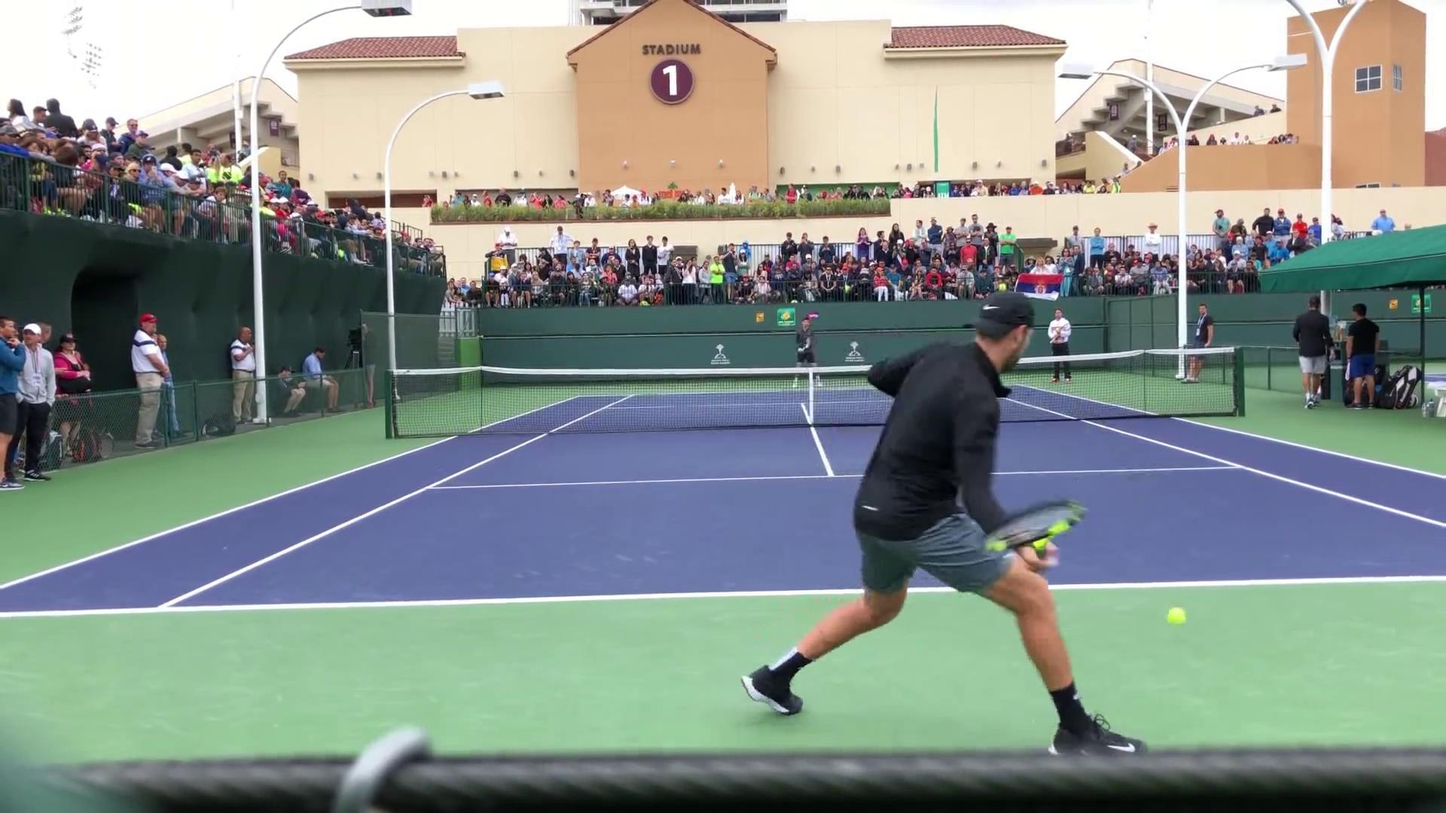ball: (1165, 605, 1187, 629)
